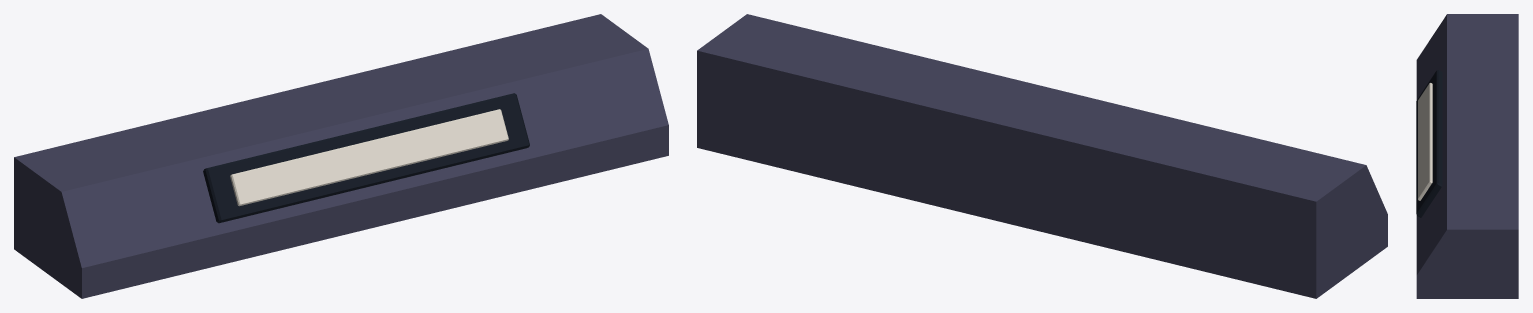
Rendered from curb-light.glb.
3 views of the same model, side by side, from view 1: azimuth 30°, elevation 25°; view 2: azimuth 150°, elevation 25°; view 3: azimuth 270°, elevation 25° (orthographic). The views are drawn at different scales.
Visible parts, largest first — view 1: Curb, Recess_bezel, Diffuser; view 2: Curb; view 3: Curb, Recess_bezel, Diffuser.
Part boxes in pixels (bbox=[...]): Curb: bbox=[14, 14, 668, 298]; Recess_bezel: bbox=[203, 93, 529, 223]; Diffuser: bbox=[230, 109, 508, 206]; Curb: bbox=[697, 14, 1387, 298]; Curb: bbox=[1416, 14, 1518, 298]; Recess_bezel: bbox=[1416, 70, 1442, 217]; Diffuser: bbox=[1418, 83, 1432, 200].
Size of the model in its own units: 1 by 0.15 by 0.2002.
2 materials, 2 textured.
